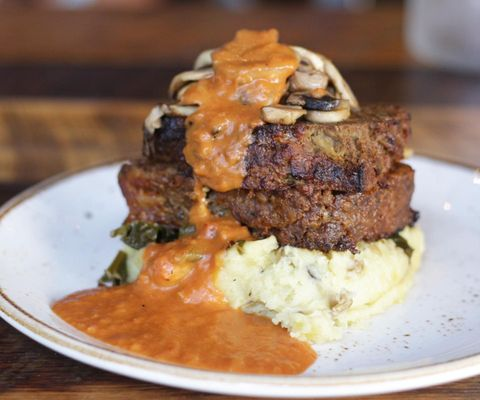curry: (1, 17, 479, 388)
